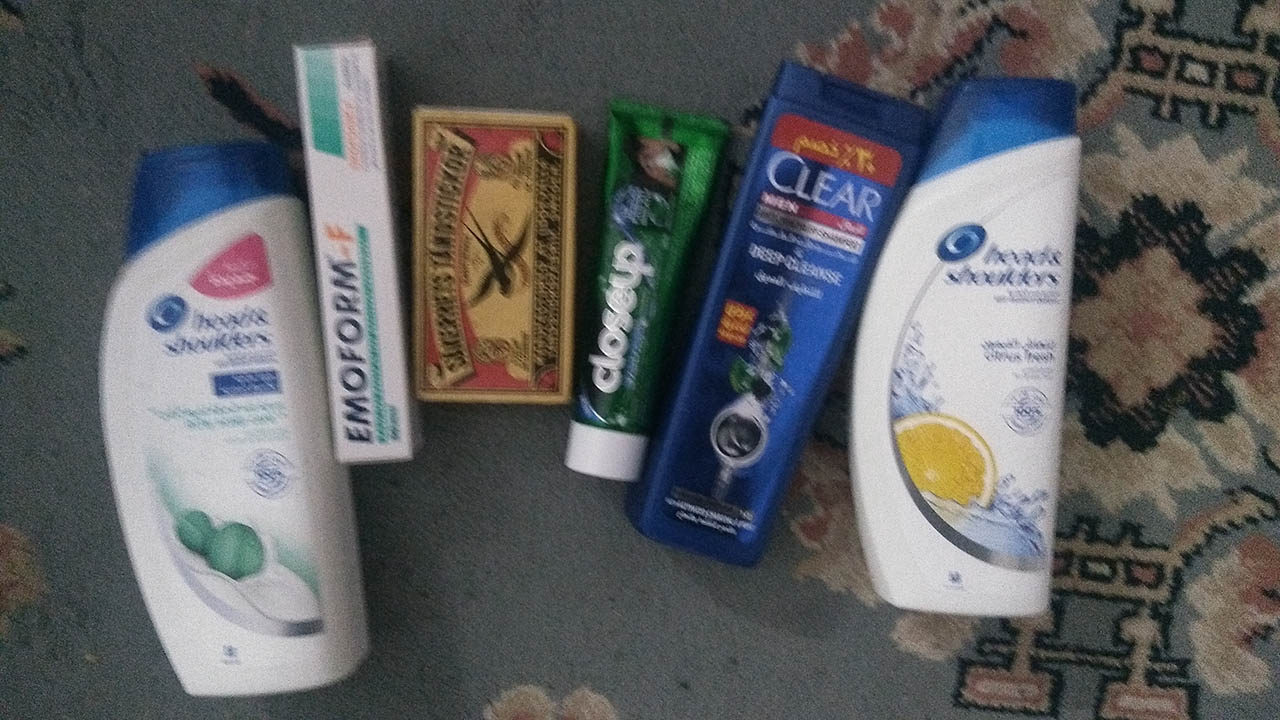Shampoo-Clear 4.7$: (630, 97, 924, 555)
Toothpaste-Closeup 3.04$: (585, 79, 685, 475)
Toothpaste-F 1.5$: (291, 27, 424, 463)
match-sticks .90$: (418, 100, 581, 411)
shampoo-Lemon 3.5$: (853, 75, 1098, 622)
shampoo-green 4.5$: (89, 133, 360, 698)
